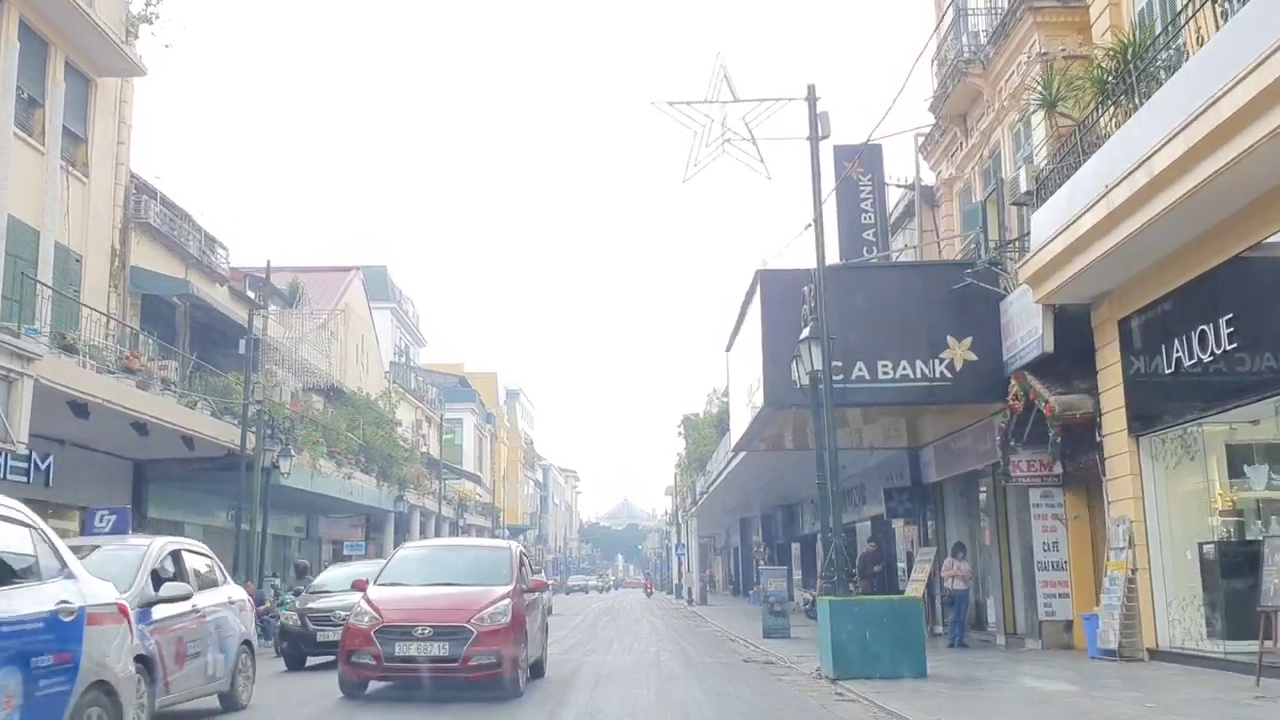vehicle-plate: (393, 640, 447, 655)
